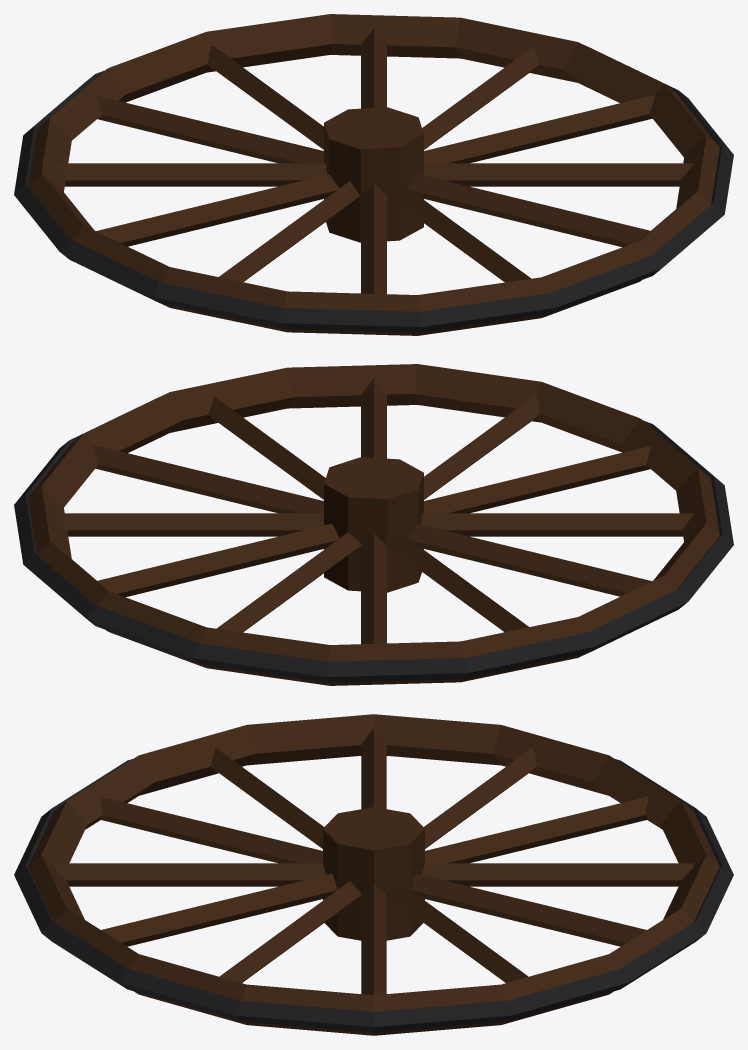
The model's file is SM_Wagon_Wheel.obj.
3 renders of one model, top to bottom at view 1: azimuth 30°, elevation 25°; view 2: azimuth 150°, elevation 25°; view 3: azimuth 270°, elevation 25°, orthographic.
Visible parts, largest first — view 1: SM_Wagon_Wheel; view 2: SM_Wagon_Wheel; view 3: SM_Wagon_Wheel.
Boxes of the visible parts, bbox=[...] form: SM_Wagon_Wheel: bbox=[14, 14, 733, 335]; SM_Wagon_Wheel: bbox=[14, 364, 733, 685]; SM_Wagon_Wheel: bbox=[14, 714, 733, 1035].
Size of the model in its own units: 1.13 by 0.16 by 1.13.
